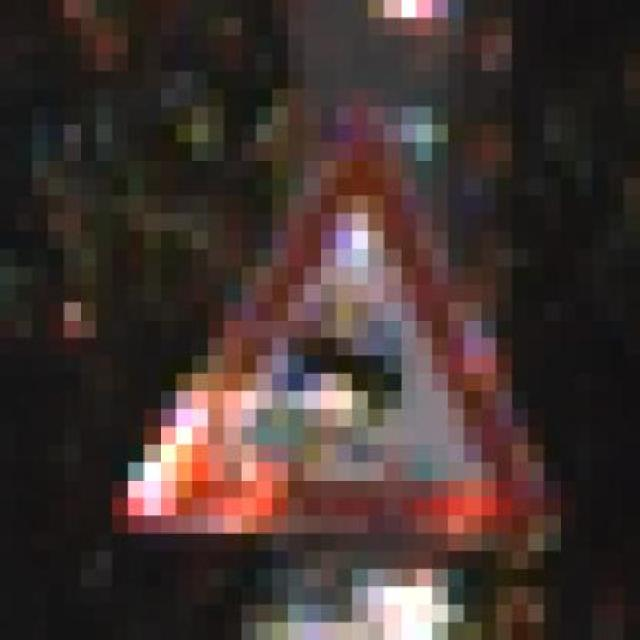Slippery Road Ahead: (112, 106, 560, 569)
